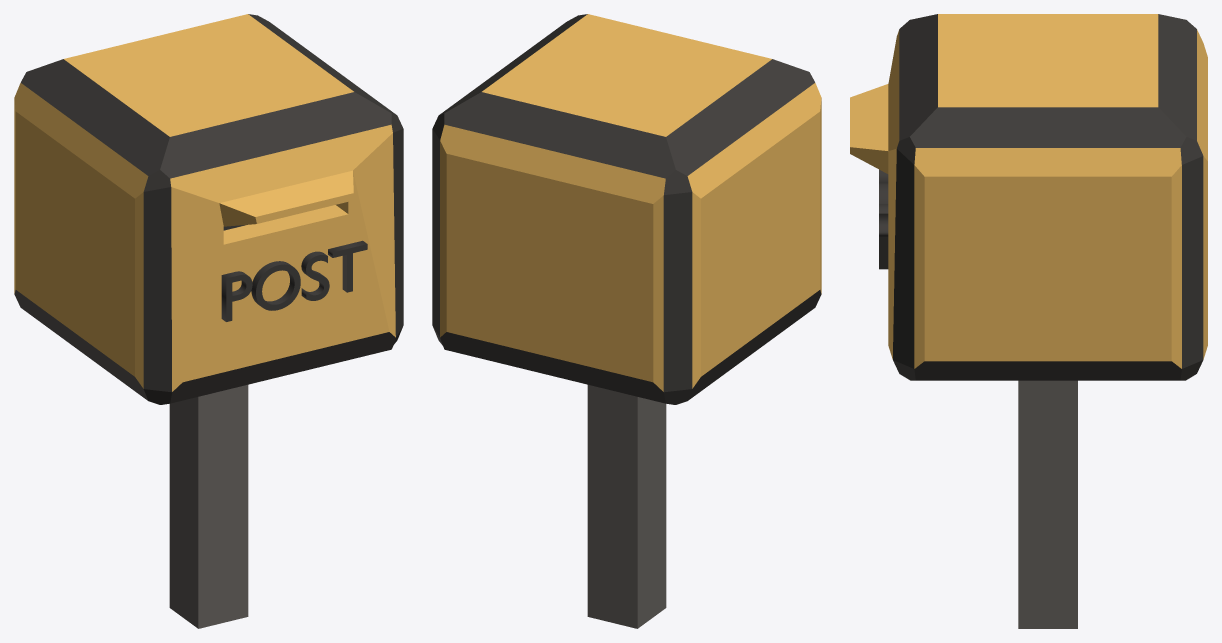
File: Briefkasten.fbx
The picture shows the model from 3 angles, left to right: view 1: azimuth 30°, elevation 25°; view 2: azimuth 150°, elevation 25°; view 3: azimuth 270°, elevation 25°; orthographic projection. The views are drawn at different scales.
Parts seen in each view (by area): view 1: Text; view 2: Text; view 3: Text.
Part boxes in pixels (left/top/right/bottom): Text: left=14, top=14, right=403, bottom=628; Text: left=432, top=14, right=821, bottom=628; Text: left=850, top=14, right=1207, bottom=628.
Size of the model in its own units: 1073 by 2061 by 1202.
